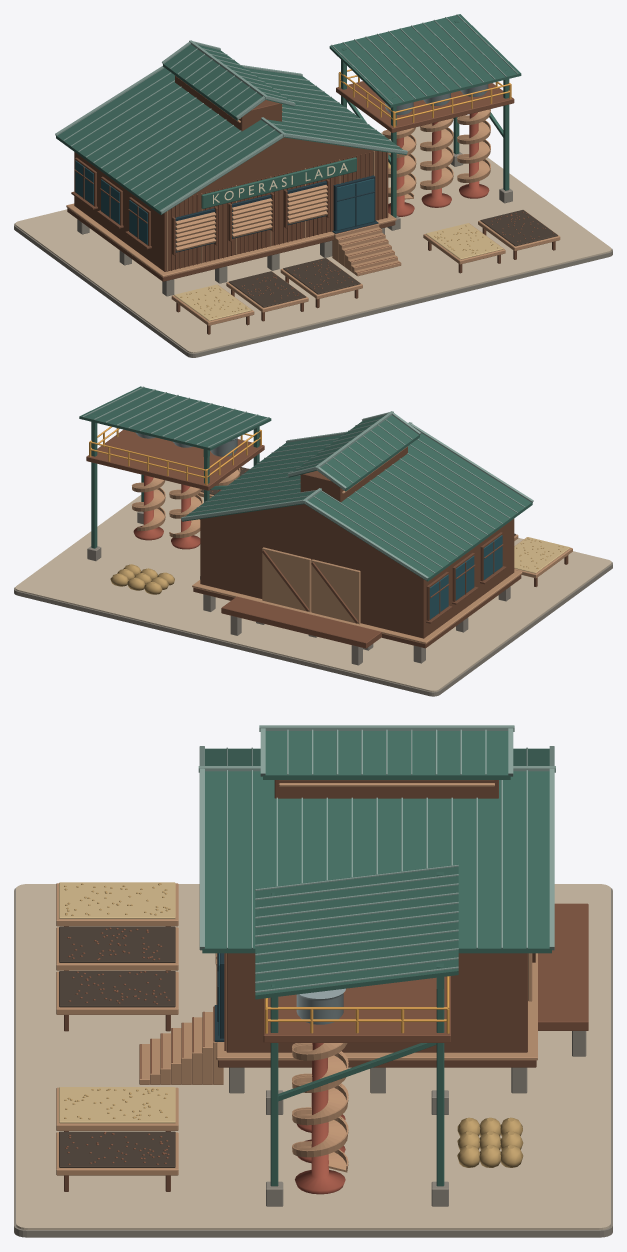
The picture shows the model from 3 angles, top to bottom: view 1: azimuth 30°, elevation 25°; view 2: azimuth 150°, elevation 25°; view 3: azimuth 270°, elevation 25°; orthographic projection. The views are drawn at different scales.
Parts seen in each view (by area): view 1: Bagging House, Drying Yard, Spiral Separators, Monitor Roof; view 2: Bagging House, Drying Yard, Spiral Separators, Bag Store, Monitor Roof; view 3: Drying Yard, Bagging House, Spiral Separators, Monitor Roof, Bag Store.
Part boxes in pixels (x1,y1,x2,y2): Bagging House: [55, 65, 407, 296]; Drying Yard: [14, 126, 612, 357]; Spiral Separators: [329, 14, 521, 230]; Monitor Roof: [162, 40, 295, 131]; Bagging House: [181, 422, 533, 663]; Drying Yard: [14, 467, 612, 696]; Spiral Separators: [79, 386, 271, 579]; Bag Store: [110, 547, 381, 665]; Monitor Roof: [287, 411, 420, 502]; Drying Yard: [14, 882, 612, 1237]; Bagging House: [139, 746, 555, 1093]; Spiral Separators: [255, 864, 458, 1206]; Monitor Roof: [259, 725, 514, 798]; Bag Store: [457, 903, 588, 1167].
Bounding box in the file's own units: 25.4 × 9.84 × 18.6.
